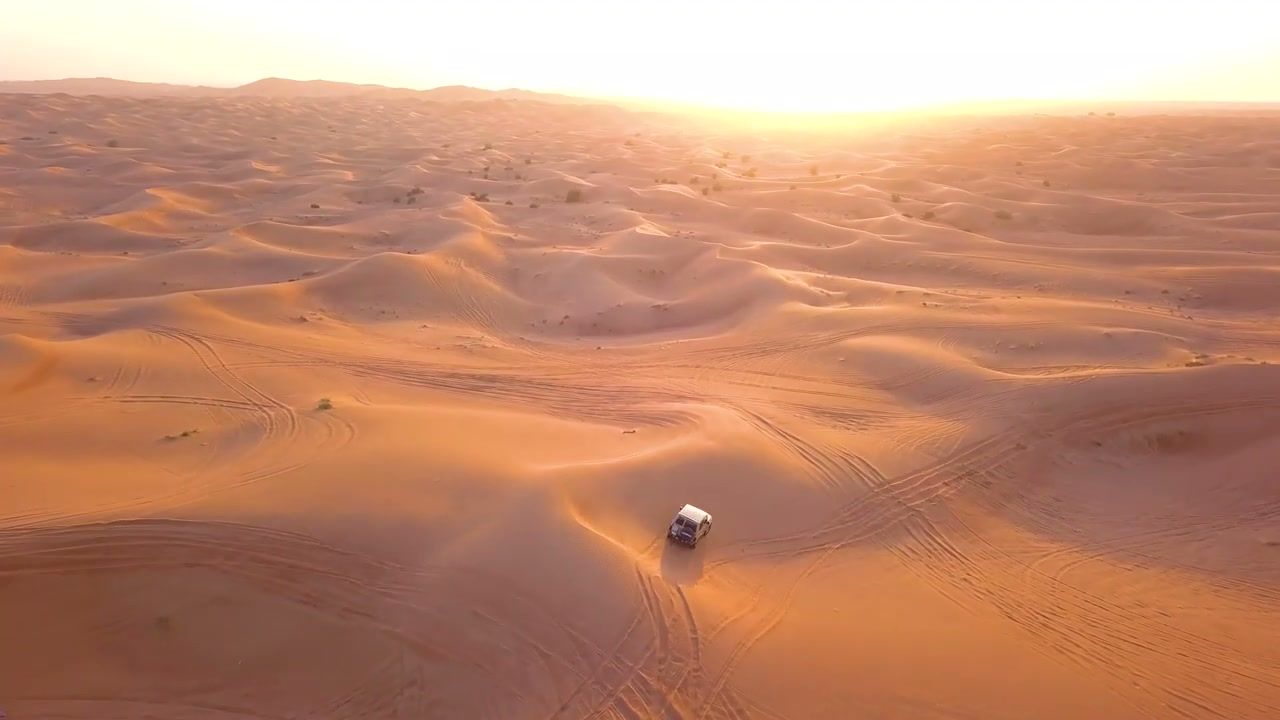vehicle_track: (0, 519, 615, 706), (737, 395, 1279, 557), (890, 505, 1279, 718), (93, 327, 355, 512), (707, 429, 1024, 569), (236, 341, 690, 425), (743, 431, 1021, 556), (1029, 502, 1279, 606), (689, 545, 838, 719), (551, 565, 701, 718), (339, 363, 687, 424), (153, 329, 302, 447), (547, 567, 660, 719), (153, 328, 286, 439), (733, 402, 883, 493), (586, 567, 671, 716), (0, 353, 145, 428), (735, 403, 853, 492), (619, 355, 869, 397), (20, 694, 295, 719), (706, 339, 807, 391), (425, 267, 497, 332), (771, 398, 912, 431), (110, 394, 259, 411), (97, 353, 145, 397), (0, 283, 27, 307)
